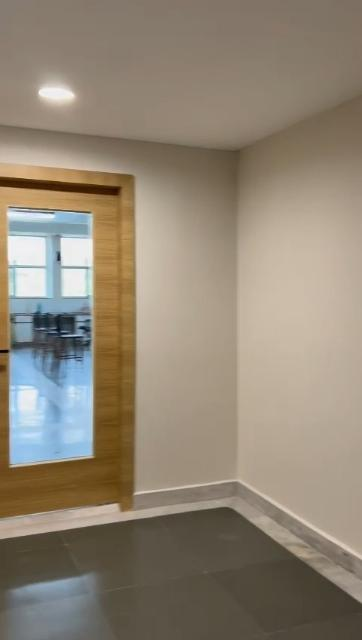door: (1, 152, 141, 502)
floor: (0, 500, 362, 640)
wall: (239, 132, 362, 492), (142, 142, 236, 476)
